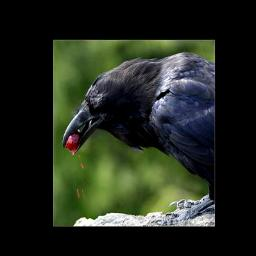Crow: (62, 51, 215, 226)
